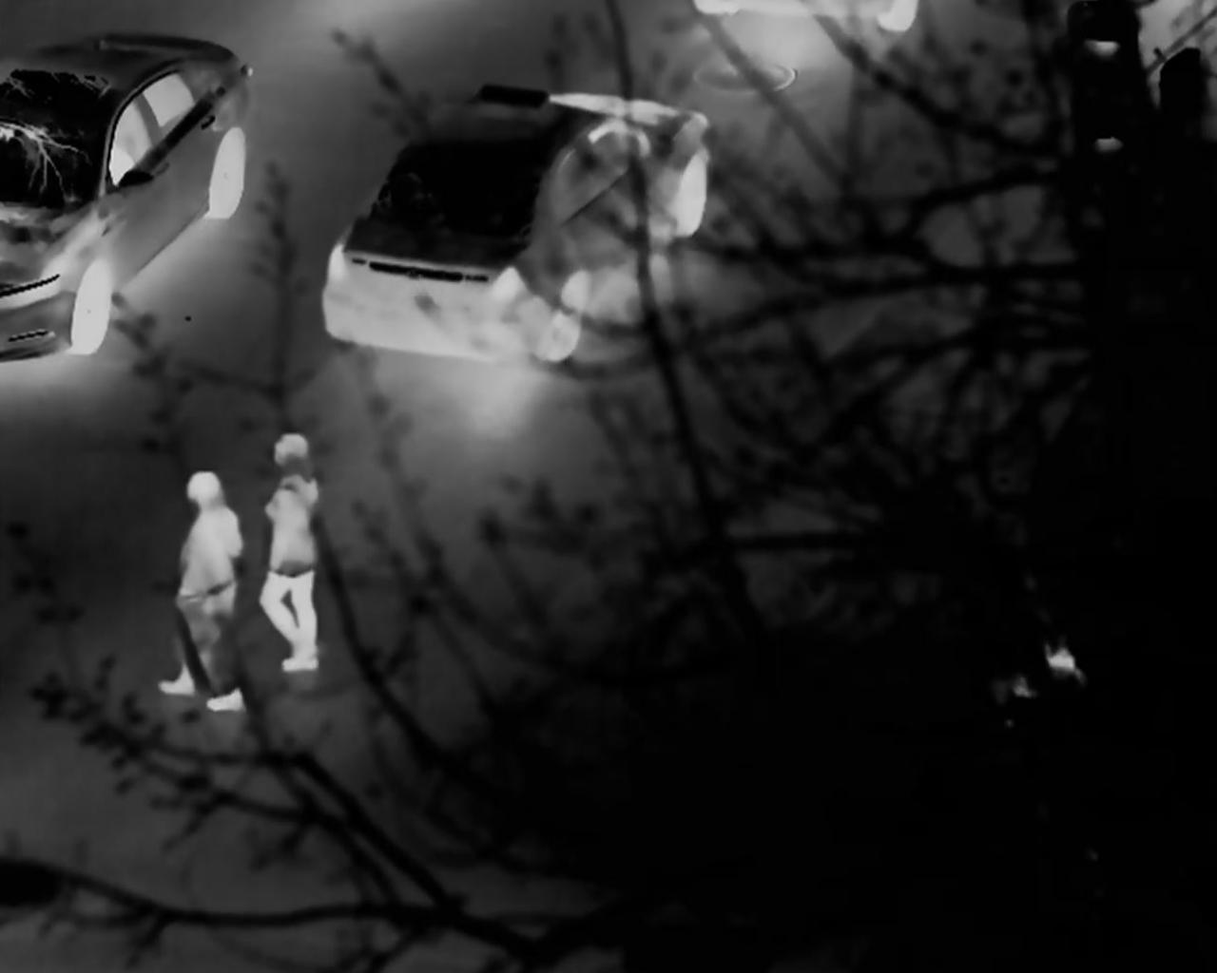person: (151, 469, 243, 714), (255, 436, 338, 676)
